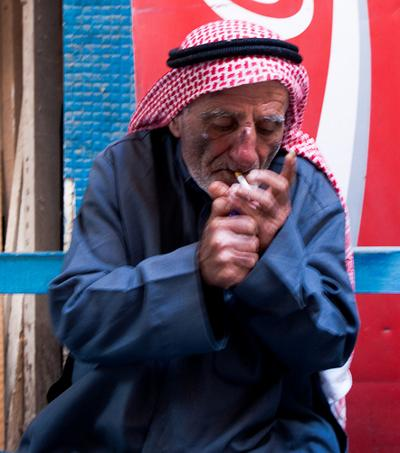person: (16, 17, 360, 453)
